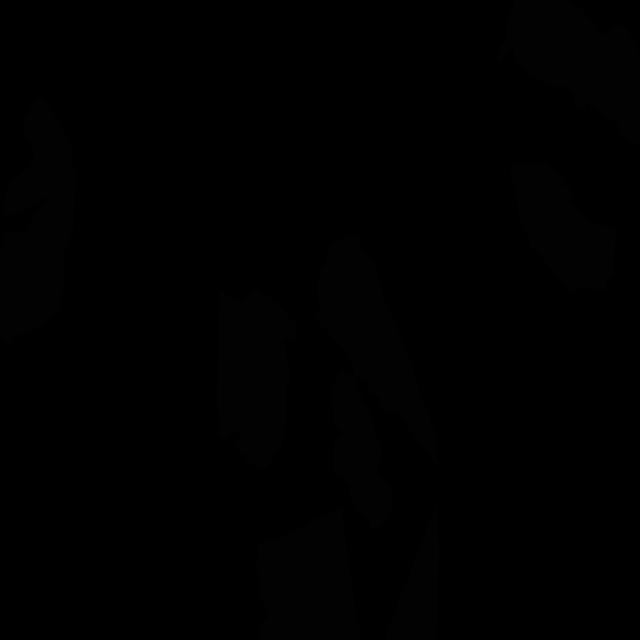cardboard: (315, 235, 438, 529), (498, 0, 640, 145), (0, 99, 76, 345), (216, 288, 296, 469), (255, 508, 361, 640), (510, 161, 617, 291), (384, 505, 439, 640)
